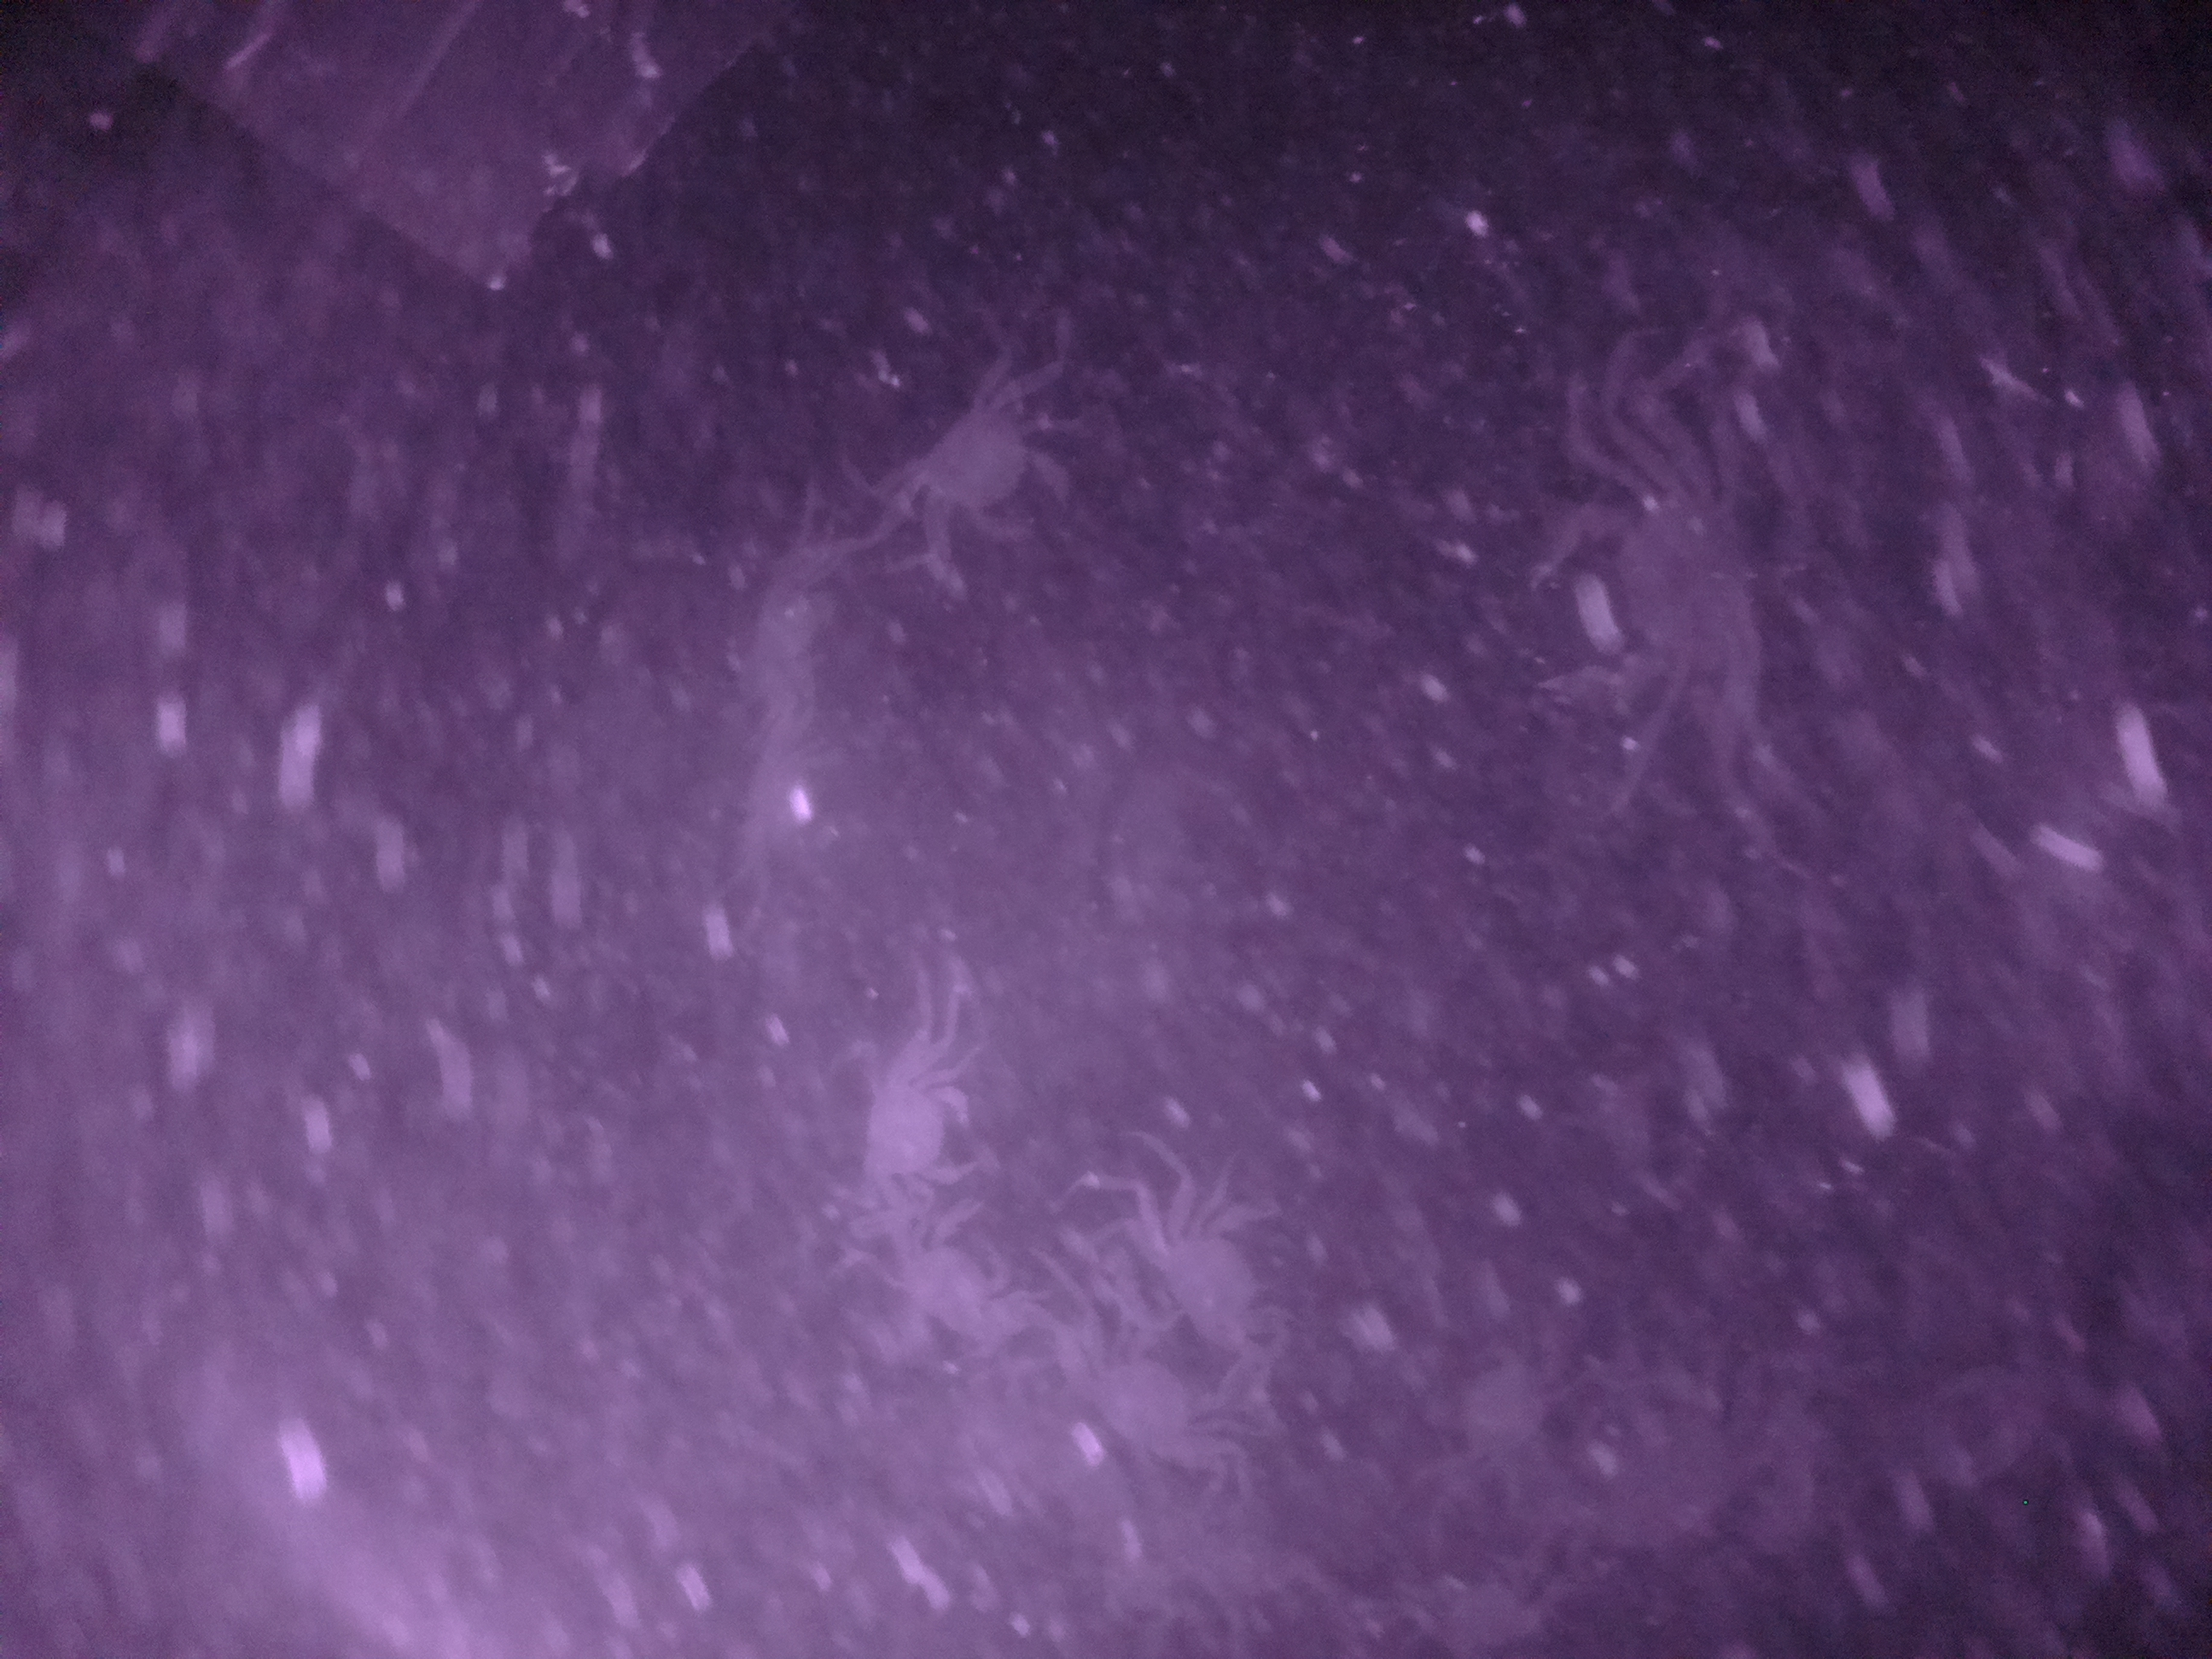Crab: (1512, 448, 1778, 741), (902, 361, 1090, 582), (845, 1021, 986, 1251)
